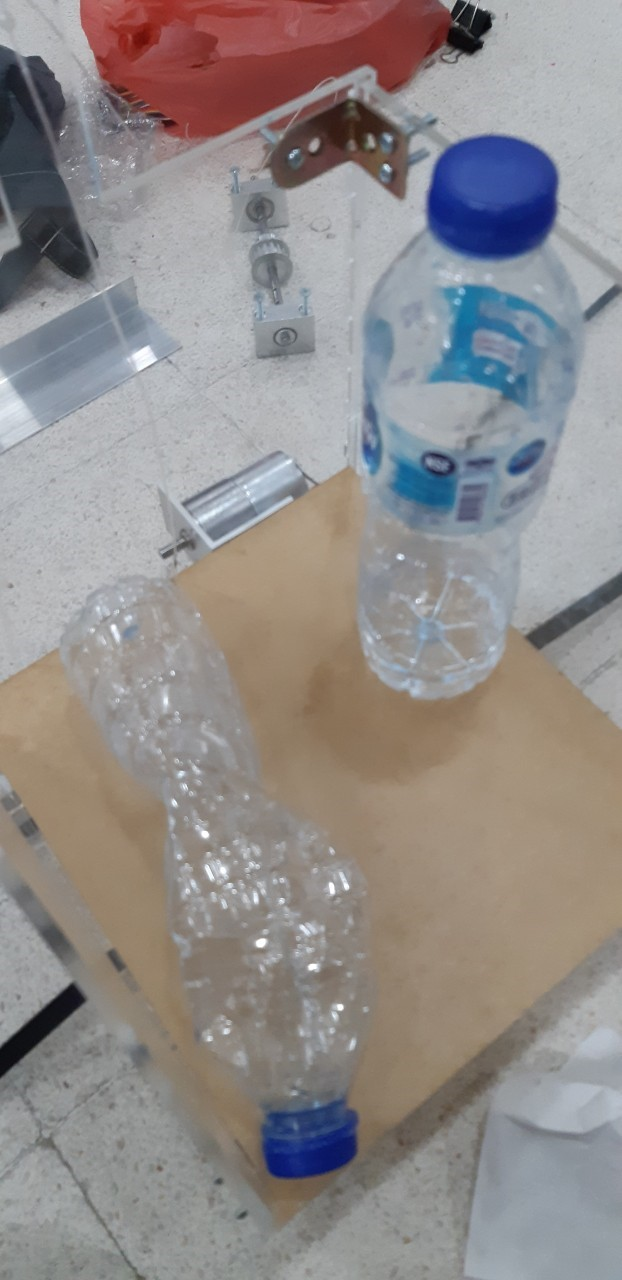PlasticBottle: (60, 571, 362, 1181), (354, 135, 584, 703)
